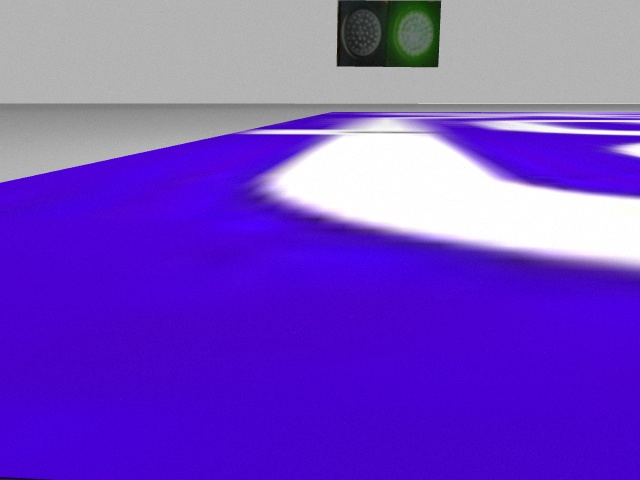green: (386, 2, 440, 66)
